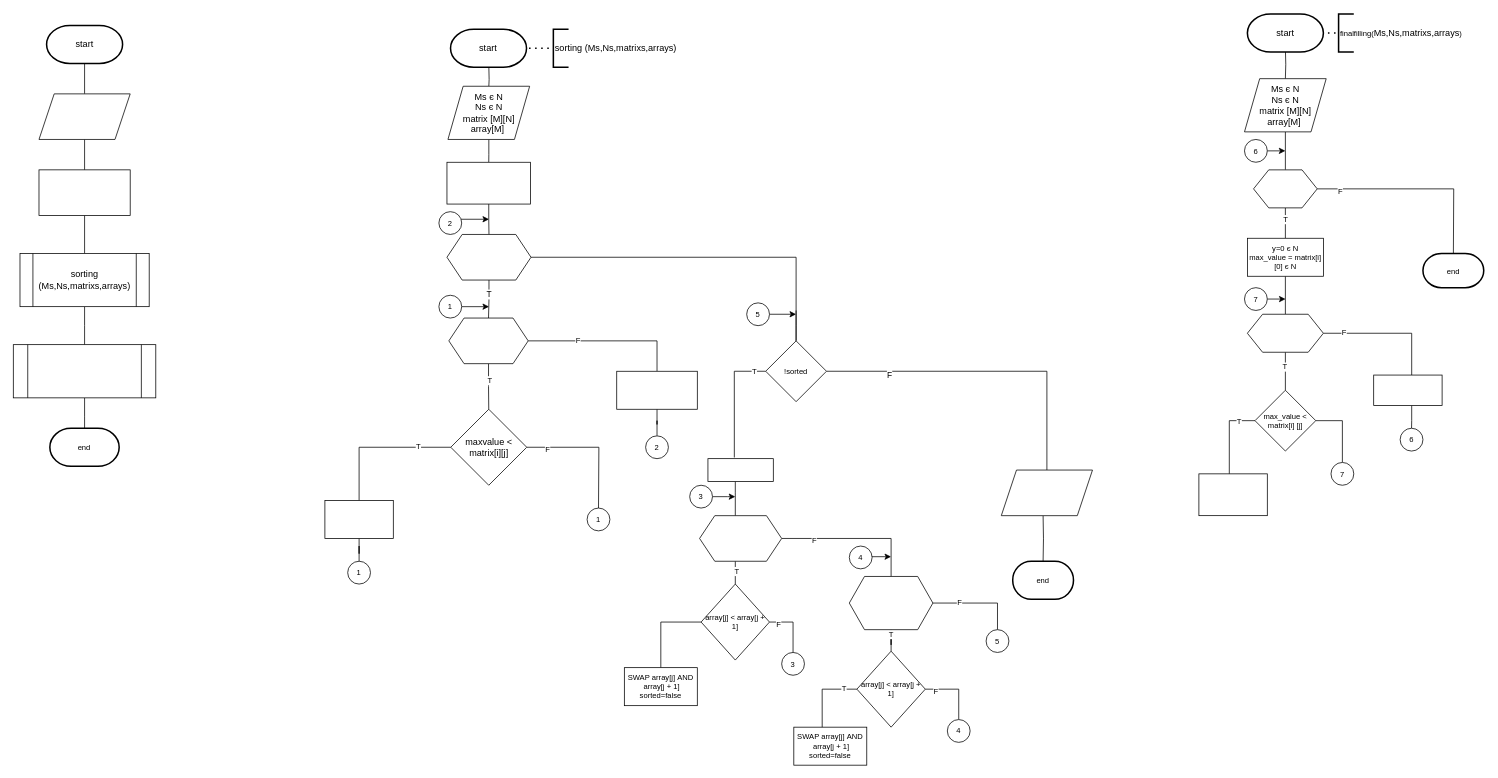
This 1498x778 diagram has some shape labels left out. The box of each missing label's shape, as (x1, y1, x2, y2) in pixels:
array [M]: (38, 169, 130, 215)
array[i] = maxvalue maxvalue = 0: (616, 370, 697, 409)
finalfilling ( Ms,Ns,matrixs,arrays ): (13, 344, 156, 398)
i = 0; i < M; i++: (1253, 169, 1317, 208)
i=0; i<M; i++, k++: (446, 234, 531, 280)
j = 0; j < N; j++: (1247, 314, 1323, 352)
j = 0; j <= M - 2; j =j+2: (849, 576, 933, 630)
j = 1; j <= M - 2; j =j+2: (699, 515, 782, 561)
j=0; j<N; j++: (448, 317, 528, 364)
k=0 maxvalue = matrix[k][0] sorted=false: (446, 162, 531, 204)
matrix [M] [N]: (38, 93, 130, 139)
matrix[i] [y] = array[i]: (1373, 374, 1442, 405)
max_value = matrix[i] [j] y = j: (1198, 473, 1267, 516)
maxvalue = matrix[i][j]: (324, 500, 393, 538)
output array: (1001, 469, 1092, 516)
sorted=true: (707, 458, 773, 481)
